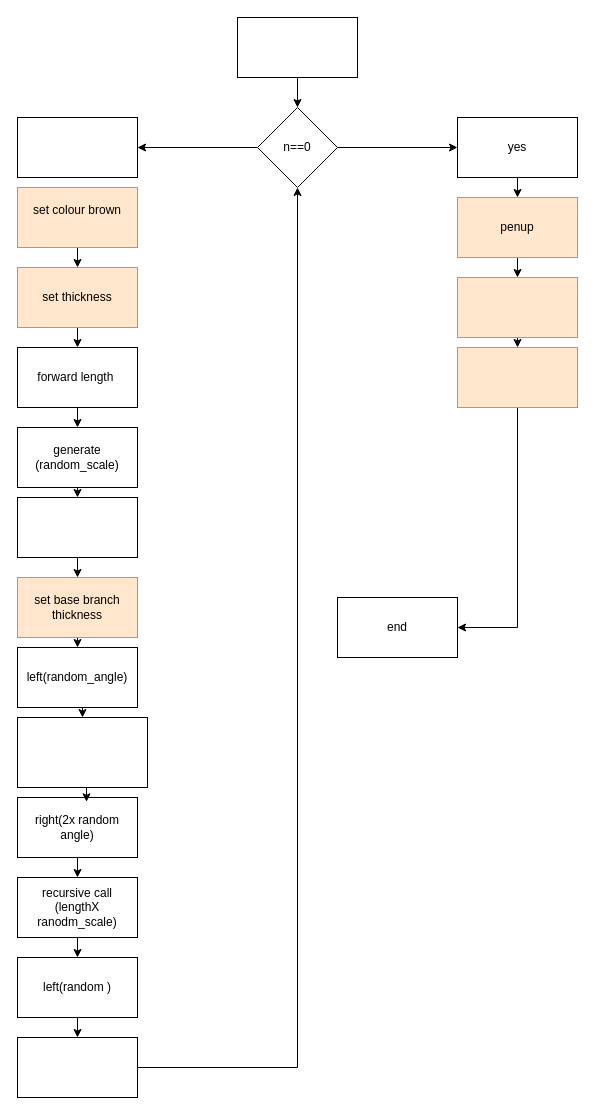
Some shapes in this 595 by 1115 pixel diagram are drawn without their labels. The shapes that lost their labels are listed below. From the top down, each one's centre as x and y in pixels, then its label:
pixel 297 47: start
pixel 77 147: no
pixel 517 307: green dot
pixel 517 377: pendown
pixel 77 527: generate (random_angle)
pixel 82 752: recursive call (lengthXrandom_scale)
pixel 77 1067: backward(length)
